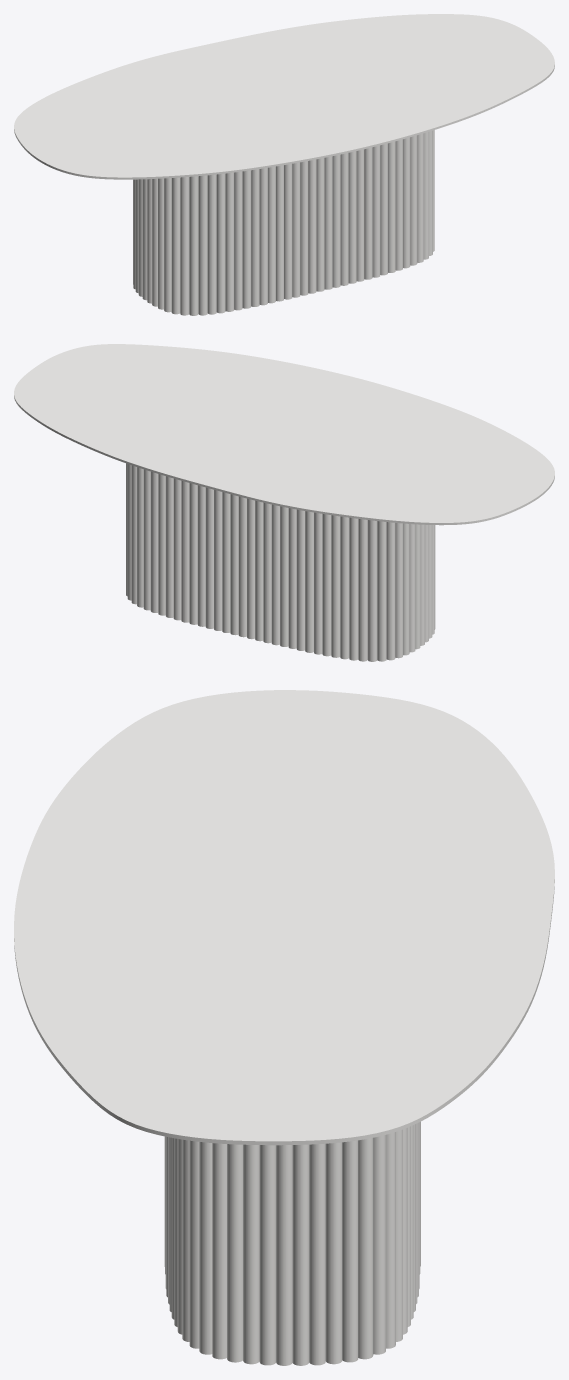
Rendered from purewhite_danish_facet_newtable.glb.
3 views of the same model, one above another, from view 1: azimuth 30°, elevation 25°; view 2: azimuth 150°, elevation 25°; view 3: azimuth 270°, elevation 25° (orthographic). The views are drawn at different scales.
Parts seen in each view (by area): view 1: facet_danish, newtable; view 2: facet_danish, newtable; view 3: facet_danish, newtable.
Boxes of the visible parts, <box> form: facet_danish: <box>14,14,554,179</box>; newtable: <box>133,130,434,315</box>; facet_danish: <box>14,344,554,525</box>; newtable: <box>126,463,435,661</box>; facet_danish: <box>14,690,554,1145</box>; newtable: <box>164,1121,420,1365</box>.
Size of the model in its own units: 7.5 by 2.5 by 3.8.
2 materials, 2 textured.
